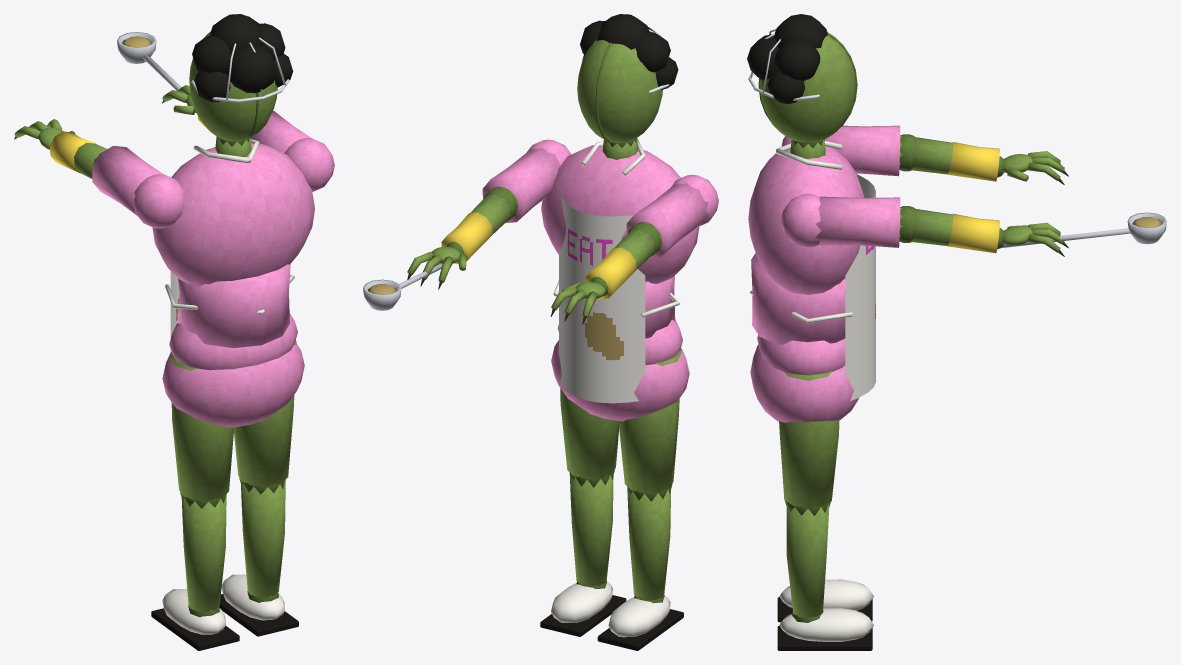
The model's file is z_lunchlady.glb.
3 renders of one model, left to right at view 1: azimuth 30°, elevation 25°; view 2: azimuth 150°, elevation 25°; view 3: azimuth 270°, elevation 25°, orthographic. The views are drawn at different scales.
Visible parts, largest first — view 1: part_body, part_head, part_kneeL, part_kneeR, part_armL, part_legL, part_legR, part_arm; view 2: part_body, part_head, part_arm, part_kneeL, part_kneeR, part_armL, part_legL, part_legR; view 3: part_body, part_head, part_arm, part_kneeR, part_armL, part_legR, part_kneeL.
Part boxes in pixels (x1=…): part_body: x1=132, y1=138, x2=334, y2=427; part_head: x1=189, y1=14, x2=293, y2=146; part_kneeL: x1=151, y1=492, x2=239, y2=650; part_kneeR: x1=219, y1=478, x2=298, y2=636; part_armL: x1=14, y1=119, x2=164, y2=215; part_legL: x1=170, y1=352, x2=234, y2=500; part_legR: x1=234, y1=340, x2=296, y2=486; part_arm: x1=117, y1=32, x2=311, y2=153; part_body: x1=527, y1=138, x2=718, y2=421; part_head: x1=577, y1=14, x2=678, y2=147; part_arm: x1=363, y1=148, x2=560, y2=310; part_kneeL: x1=597, y1=484, x2=683, y2=650; part_kneeR: x1=540, y1=470, x2=626, y2=636; part_armL: x1=550, y1=183, x2=708, y2=324; part_legL: x1=618, y1=348, x2=681, y2=493; part_legR: x1=560, y1=388, x2=618, y2=479; part_body: x1=748, y1=136, x2=875, y2=422; part_head: x1=747, y1=14, x2=857, y2=147; part_arm: x1=815, y1=196, x2=1166, y2=256; part_kneeR: x1=777, y1=498, x2=873, y2=650; part_armL: x1=825, y1=125, x2=1068, y2=184; part_legR: x1=779, y1=371, x2=839, y2=507; part_kneeL: x1=777, y1=579, x2=873, y2=622.
Bounding box in the file's own units: 0.66 × 1.98 × 1.24.
13 materials, 5 textured.
